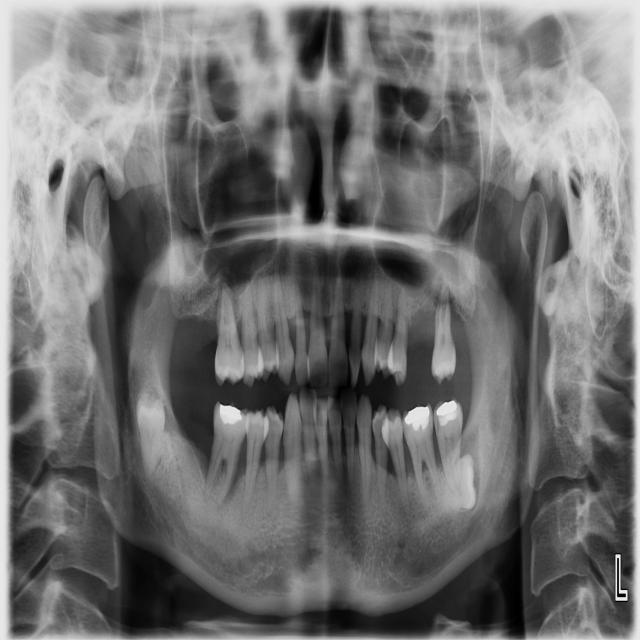mandibula: (83, 173, 547, 621)
